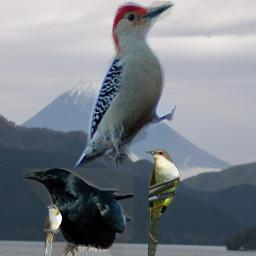Crow: (23, 168, 134, 256)
Cuckoo: (145, 149, 181, 256), (43, 204, 62, 256)
Woodpecker: (73, 1, 176, 172)
